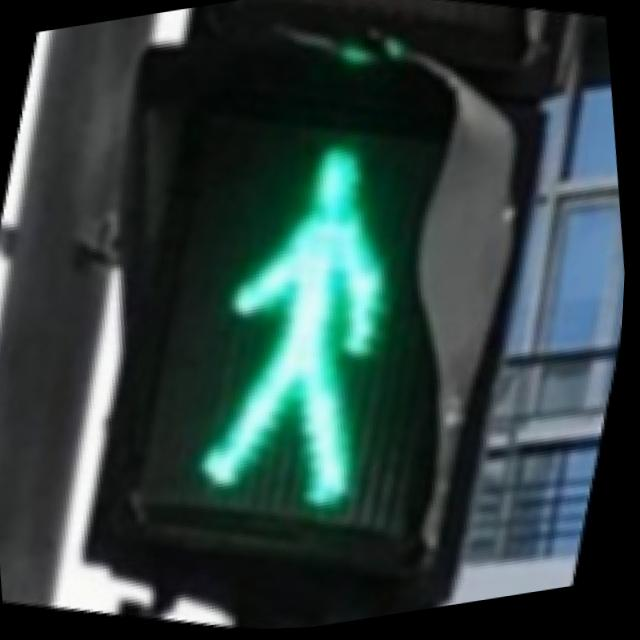green_light: (82, 45, 543, 588)
